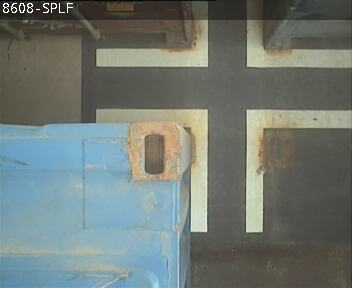groundmarker_1: (95, 108, 351, 232), (96, 1, 352, 66)
